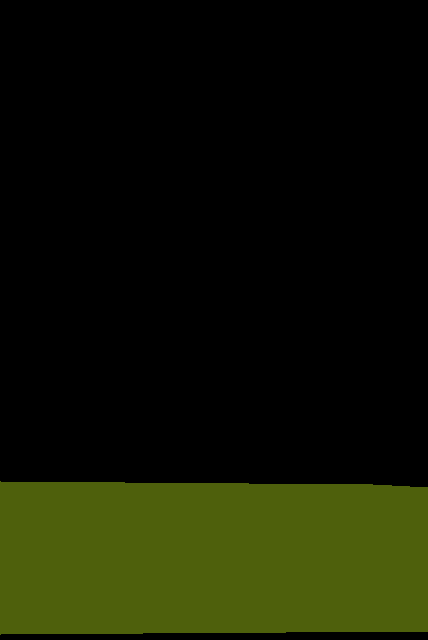Train: (0, 481, 428, 634)
